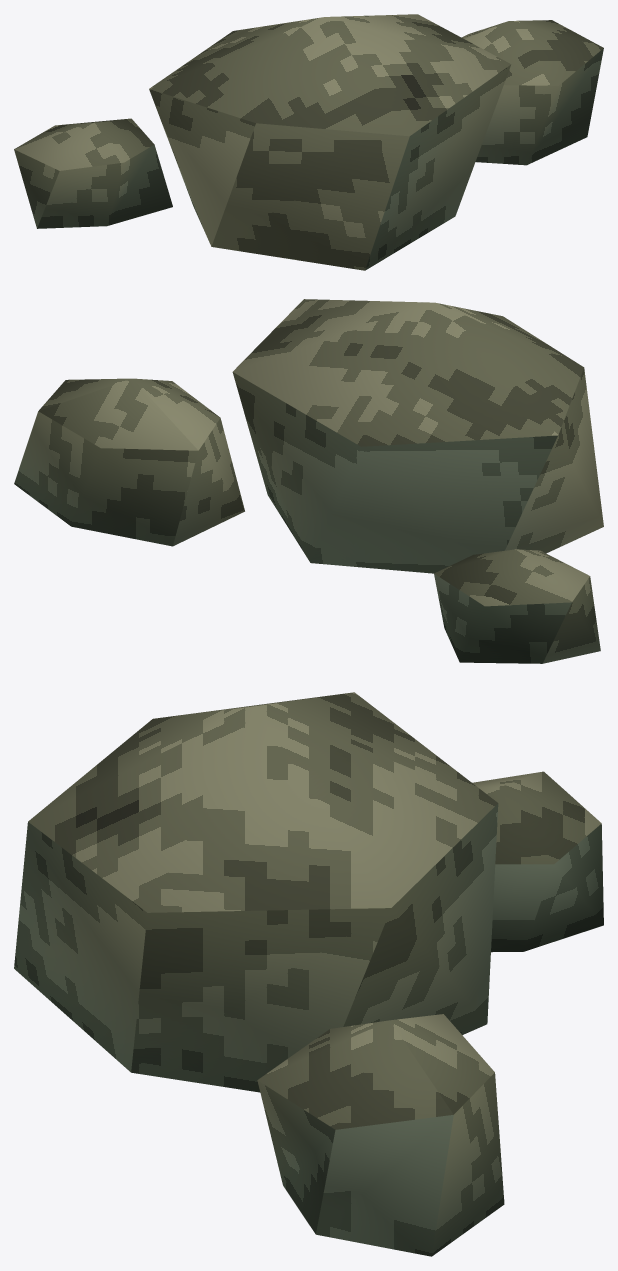
The model's file is wild.rock__cluster.glb.
3 renders of one model, top to bottom at view 1: azimuth 30°, elevation 25°; view 2: azimuth 150°, elevation 25°; view 3: azimuth 270°, elevation 25°, orthographic. The views are drawn at different scales.
Parts seen in each view (by area): view 1: kit_rock; view 2: kit_rock; view 3: kit_rock.
Boxes of the visible parts, x1=… form: kit_rock: x1=14, y1=14, x2=603, y2=270; kit_rock: x1=14, y1=299, x2=603, y2=663; kit_rock: x1=14, y1=692, x2=603, y2=1256.
Size of the model in its own units: 2.84 by 1.06 by 1.74.
Materials: 1 (1 with a texture image).
